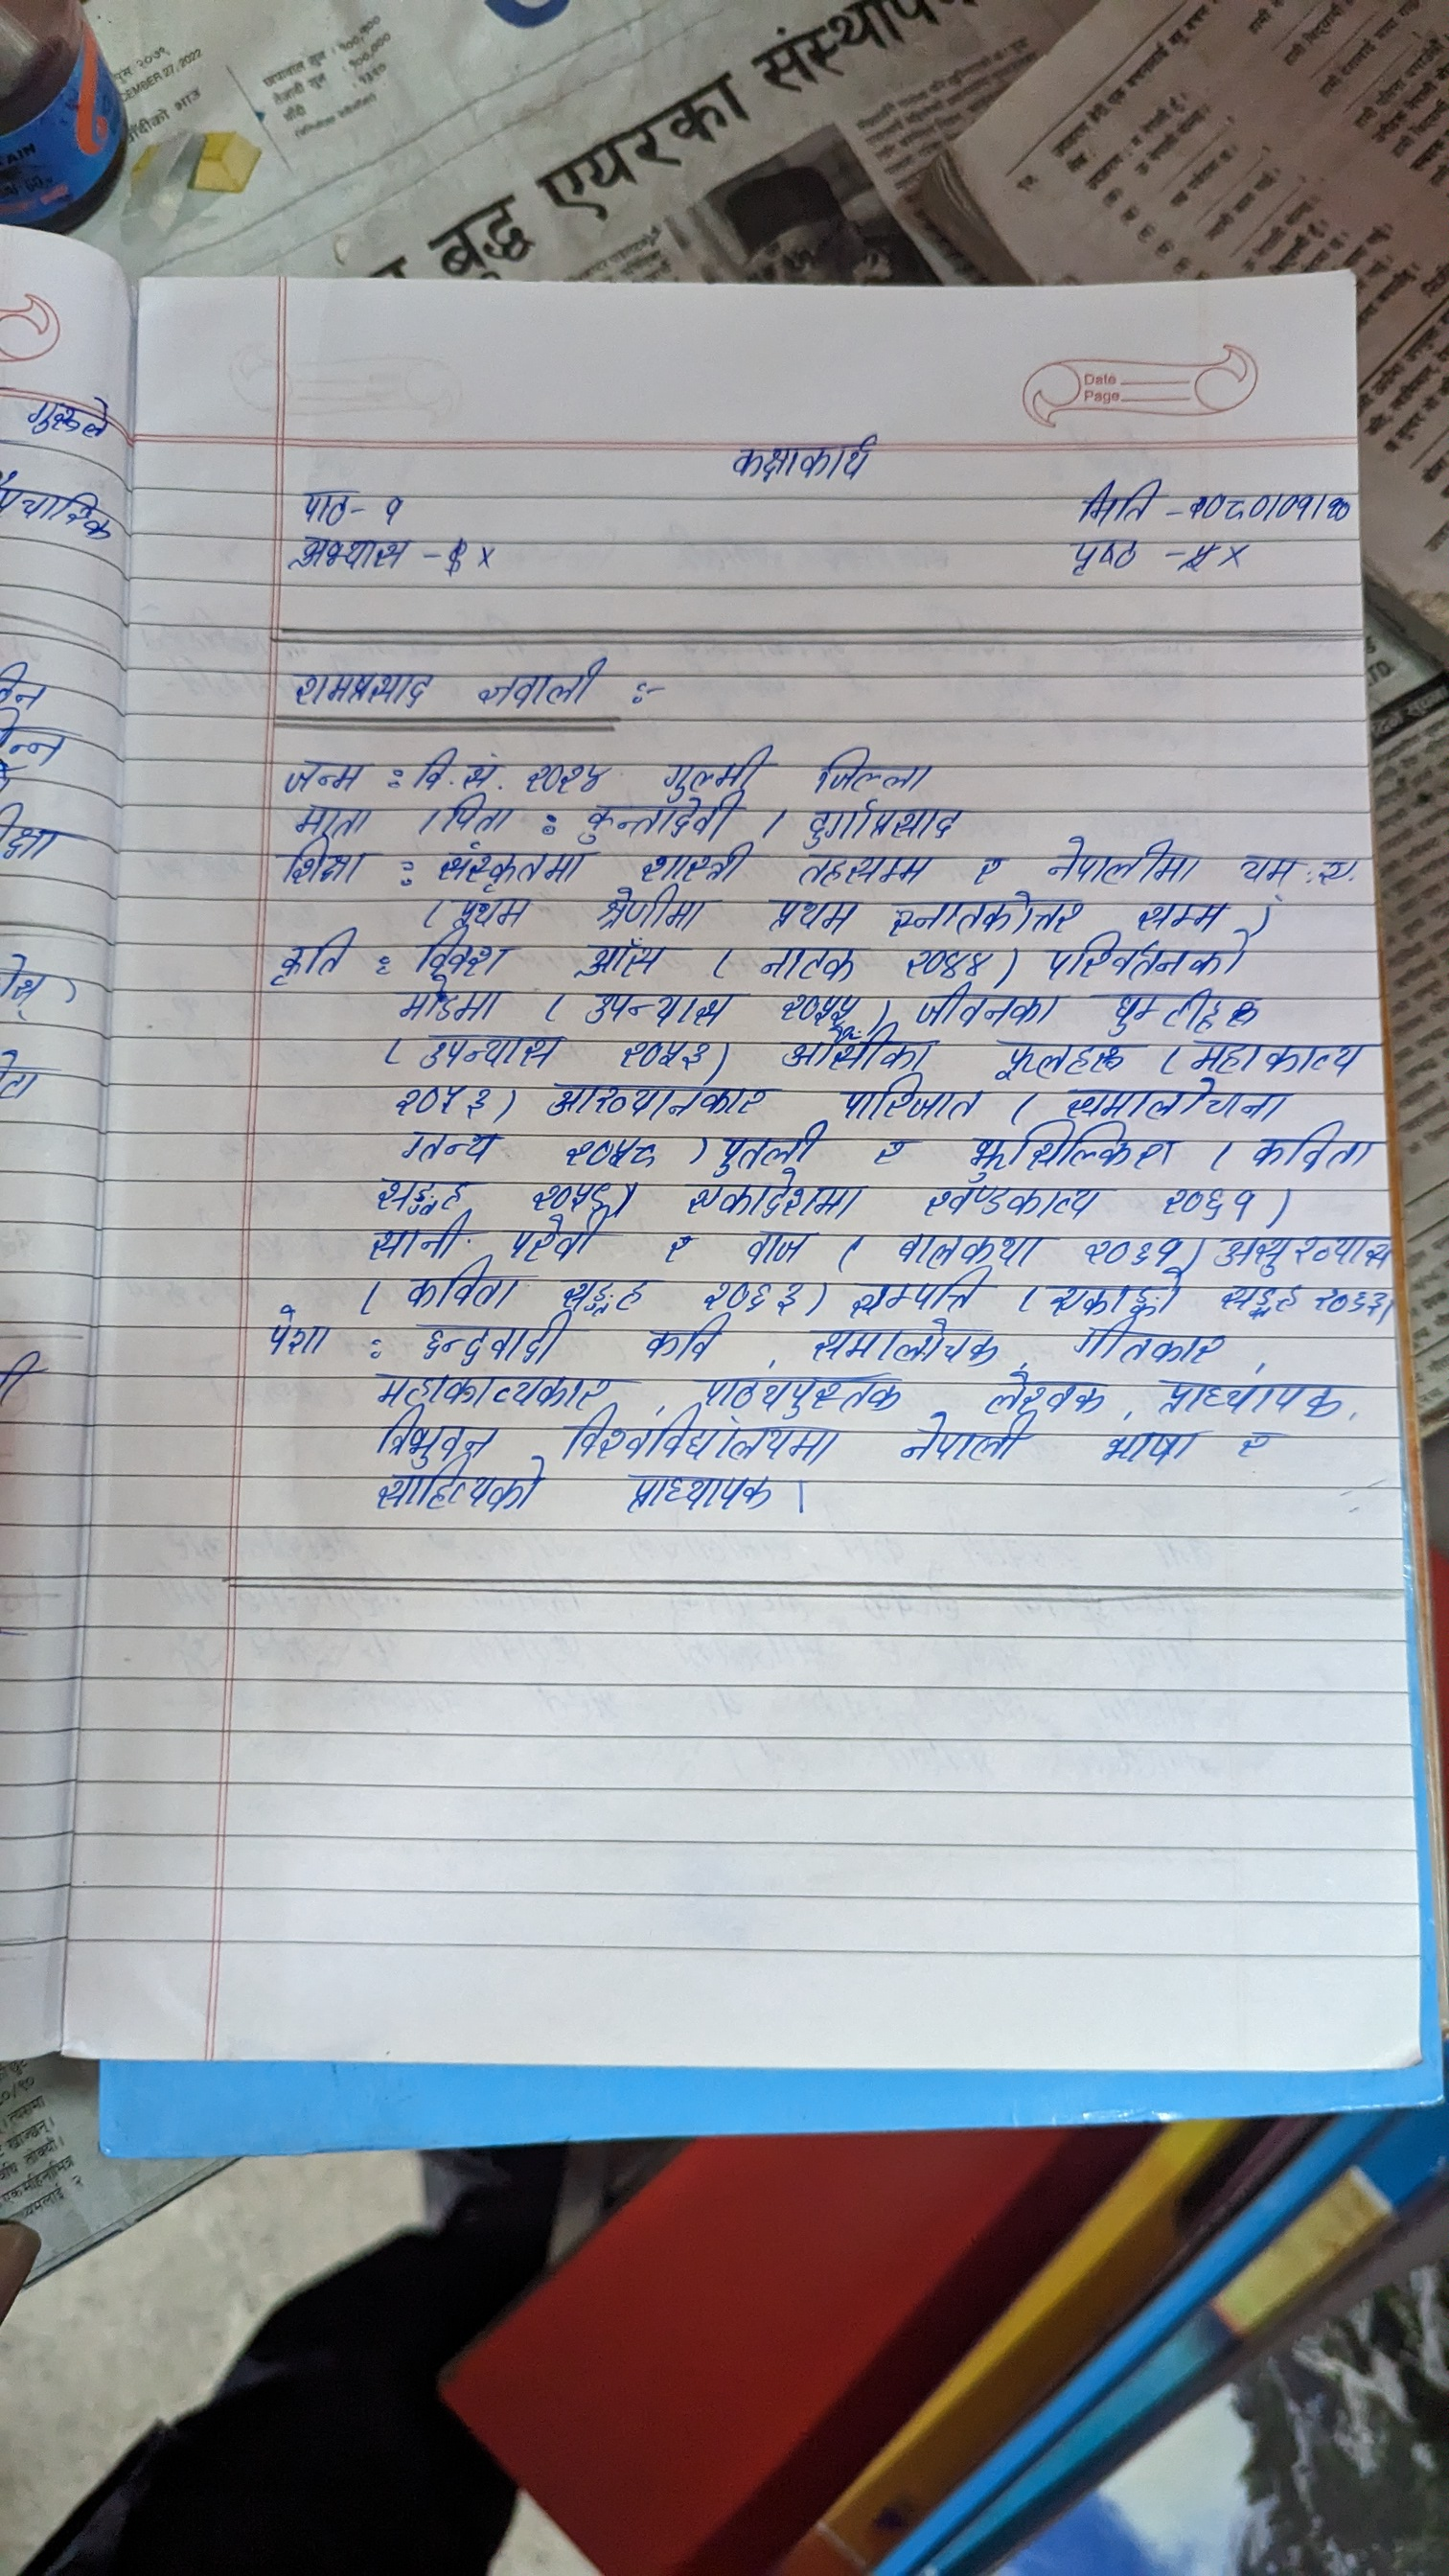text: (548, 1419, 849, 1463), (961, 1123, 1177, 1180), (547, 1077, 780, 1122), (373, 1458, 545, 1518), (1054, 1083, 1292, 1123), (718, 430, 883, 488), (1033, 833, 1212, 886), (702, 1373, 911, 1417), (803, 1320, 1001, 1366), (1044, 936, 1249, 980), (1146, 1375, 1350, 1419), (886, 892, 1085, 936), (366, 1371, 614, 1407), (1092, 982, 1263, 1031), (793, 801, 980, 846), (683, 1175, 862, 1219), (571, 798, 743, 844), (421, 844, 591, 890), (1182, 481, 1353, 525), (844, 1270, 1001, 1318), (623, 1474, 778, 1522), (1185, 1039, 1375, 1077), (1210, 1231, 1391, 1272), (283, 662, 435, 709), (777, 1028, 939, 1072), (412, 1316, 575, 1361), (476, 651, 610, 704), (1069, 1320, 1228, 1364), (893, 1421, 1040, 1468), (396, 1263, 531, 1315), (1047, 1269, 1189, 1316), (706, 1122, 830, 1175), (368, 1407, 501, 1456), (835, 1076, 975, 1122), (803, 745, 938, 793), (908, 984, 1056, 1026), (414, 1026, 561, 1069), (1240, 1125, 1375, 1171), (918, 1184, 1102, 1217), (651, 743, 775, 793), (582, 987, 732, 1028), (987, 1039, 1132, 1079), (543, 1131, 676, 1175), (267, 924, 352, 993), (890, 1233, 1040, 1270), (506, 1210, 612, 1261), (269, 747, 377, 796), (393, 977, 508, 1023), (982, 1371, 1106, 1414), (596, 886, 715, 931), (359, 1215, 474, 1260), (791, 849, 932, 885), (276, 839, 377, 888), (292, 533, 412, 573), (637, 842, 757, 883), (403, 931, 511, 975), (253, 1304, 331, 1362), (1155, 1185, 1263, 1226), (761, 939, 862, 982), (568, 938, 667, 980), (1099, 1426, 1198, 1468), (766, 893, 863, 936), (695, 1277, 810, 1313), (400, 1125, 497, 1166), (373, 1173, 474, 1212), (557, 1272, 649, 1315), (1072, 476, 1159, 520), (899, 941, 987, 982), (522, 755, 607, 796), (1125, 899, 1228, 932), (448, 892, 538, 929), (649, 1316, 718, 1364), (1067, 533, 1143, 575), (610, 1039, 711, 1070), (398, 1079, 488, 1115), (1219, 1279, 1304, 1316), (1315, 1286, 1392, 1325), (290, 800, 372, 837), (1077, 1235, 1184, 1263), (525, 1178, 619, 1210), (771, 991, 860, 1023), (446, 794, 515, 835), (738, 1231, 814, 1267), (294, 481, 354, 524), (1237, 847, 1293, 888), (409, 740, 453, 791), (865, 1136, 929, 1169), (1231, 1422, 1284, 1458), (1318, 851, 1364, 892), (464, 745, 502, 789), (653, 1230, 702, 1263), (379, 488, 418, 527), (973, 853, 1007, 886)
